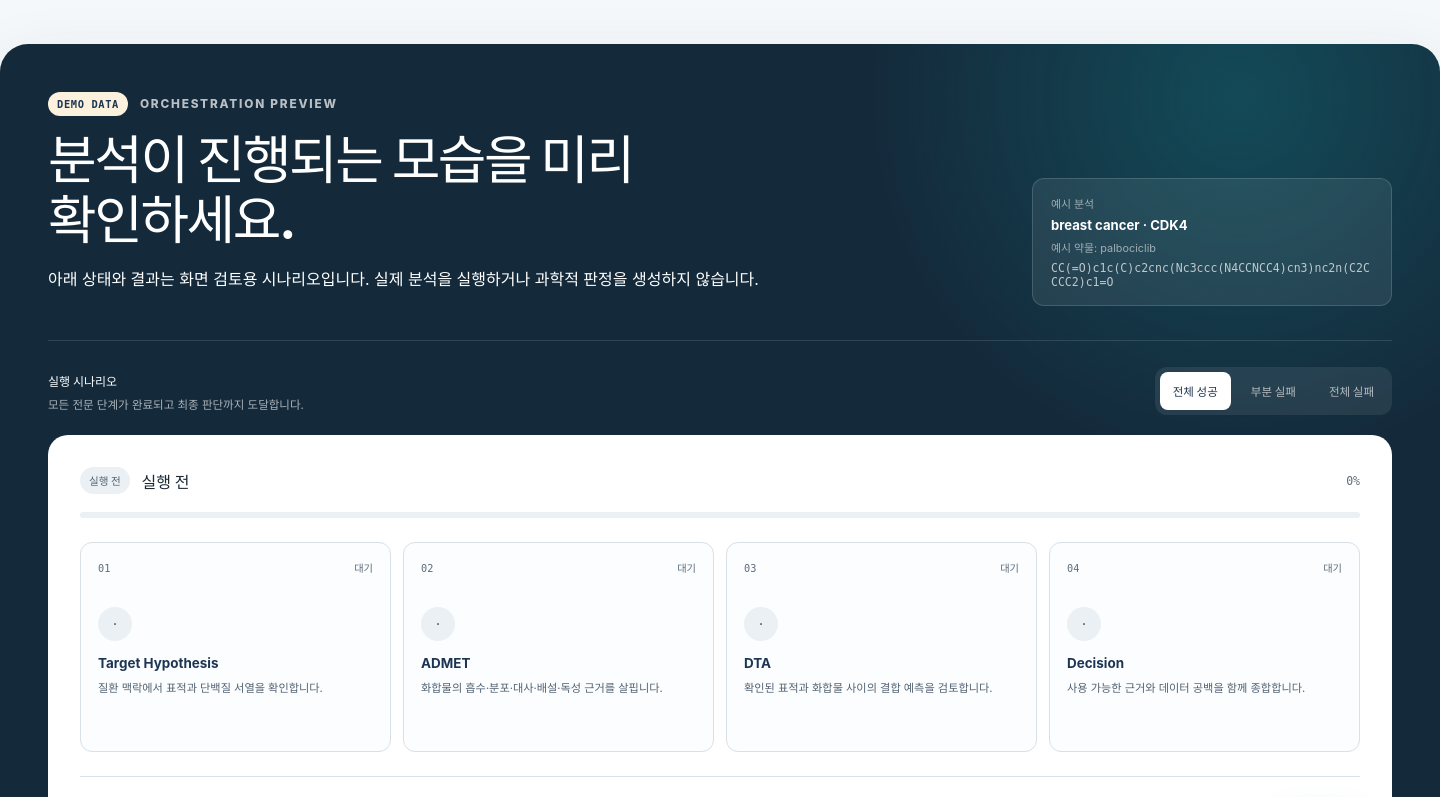
Test: AnalysisProgressPanel › stops before Decision when no specialist evidence is available
What coordinates should you click on to do the following:
click the button "전체 실패"
I would click on:
 (1351, 391)
Its box is [1316,372,1387,410].
(page scrolled)
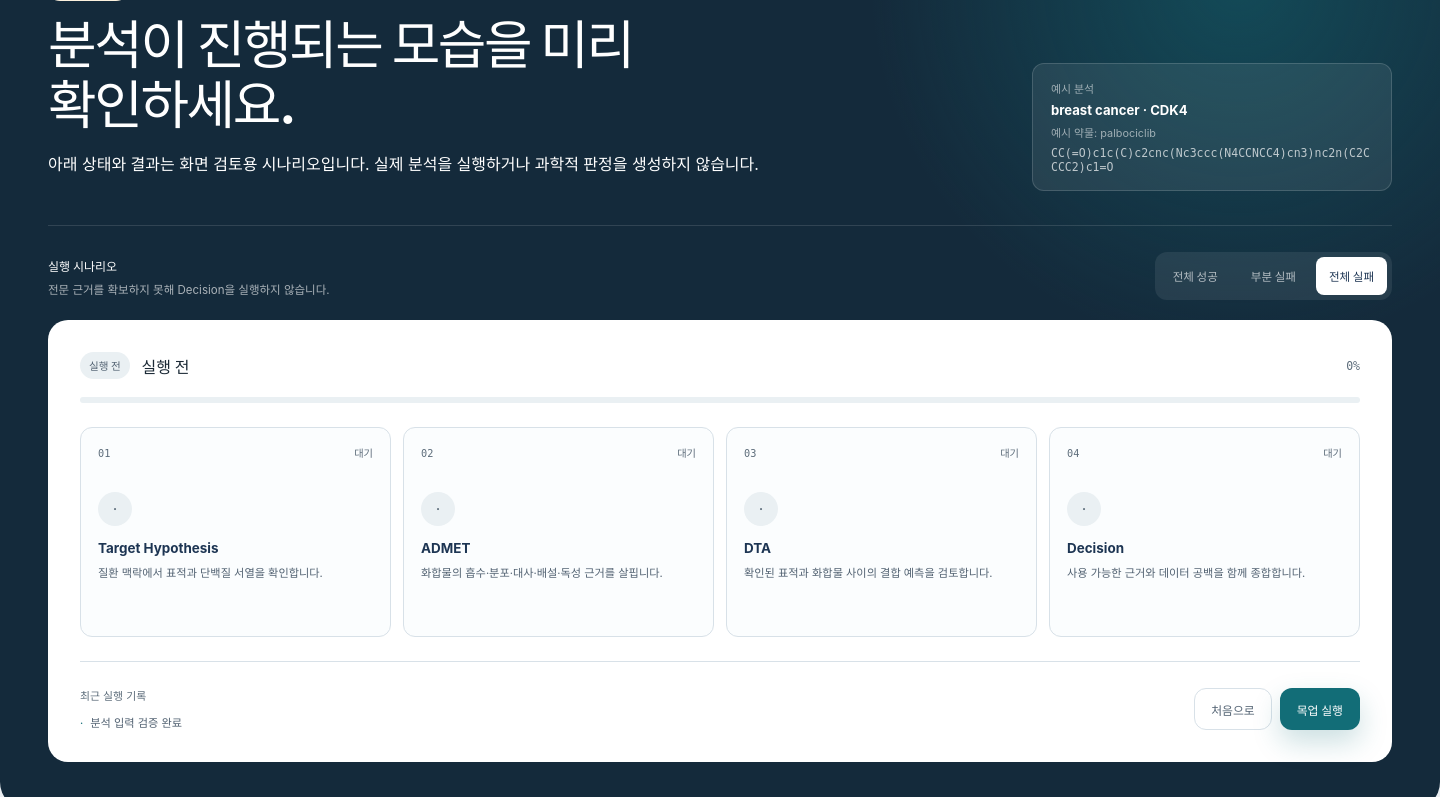
What coordinates should you click on to do the following:
click the button "목업 실행"
I would click on:
 (1320, 709)
Its box is [1280,688,1360,730].
Wait 1800 ms
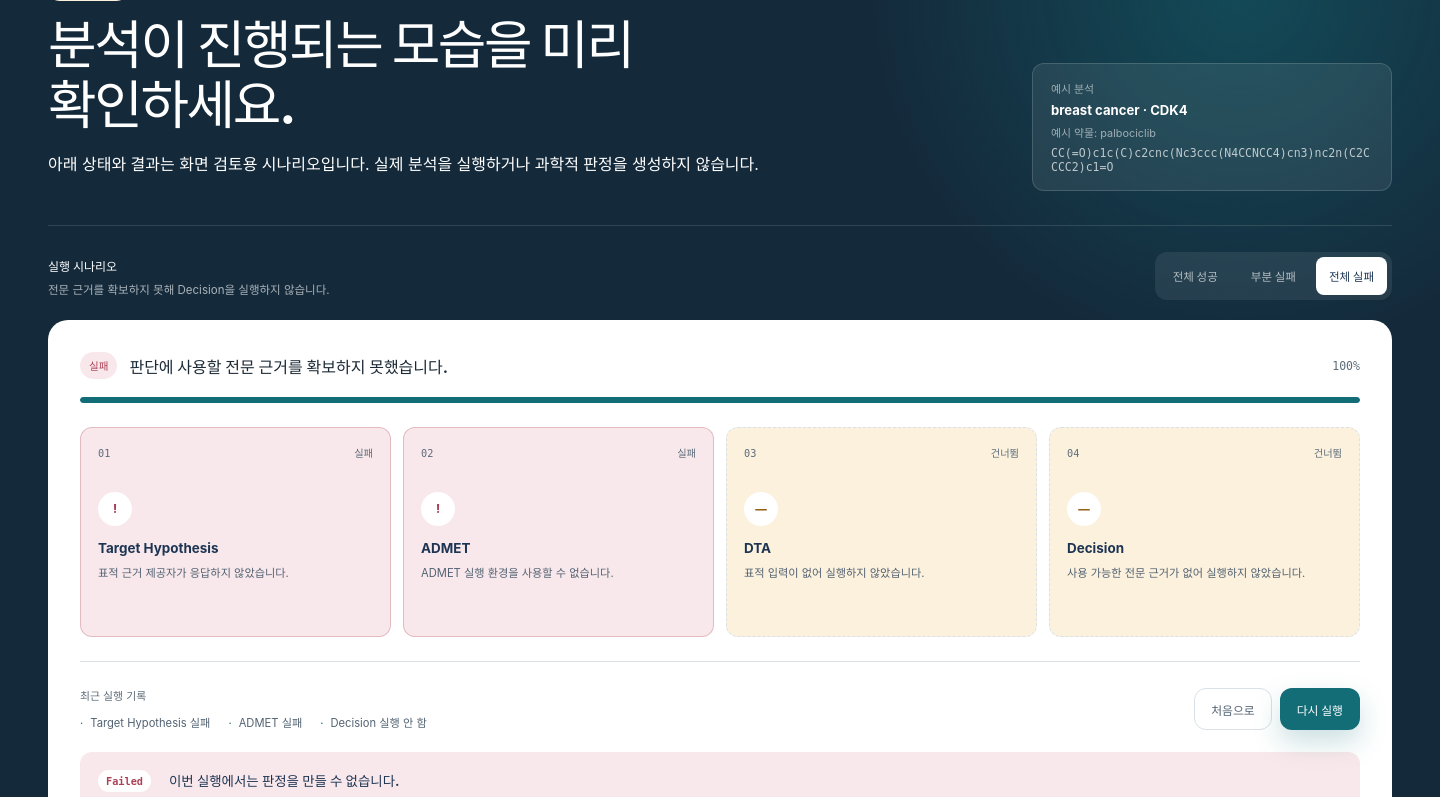
Expected: the element "Target Hypothesis" shows "실패", [354,447,373,459]
Expected: the element "ADMET" shows "실패", [677,447,696,459]
Expected: the element "Decision" shows "건너뜀", [1314,447,1342,459]
